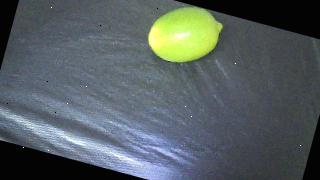LOCAL: (142, 0, 225, 72)
